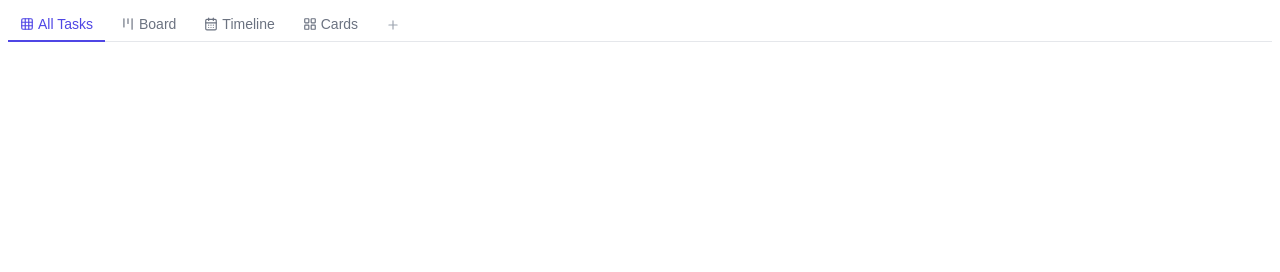
ViewSwitcher › opens add view menu with all view types
Click the button named "Add view".
click(393, 24)  # box [378,10,408,40]
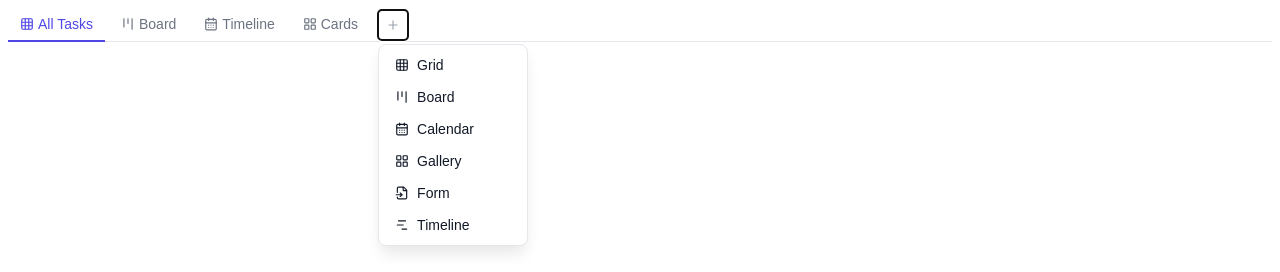
Now the text "Form" is shown, box [417,184,450,200]
